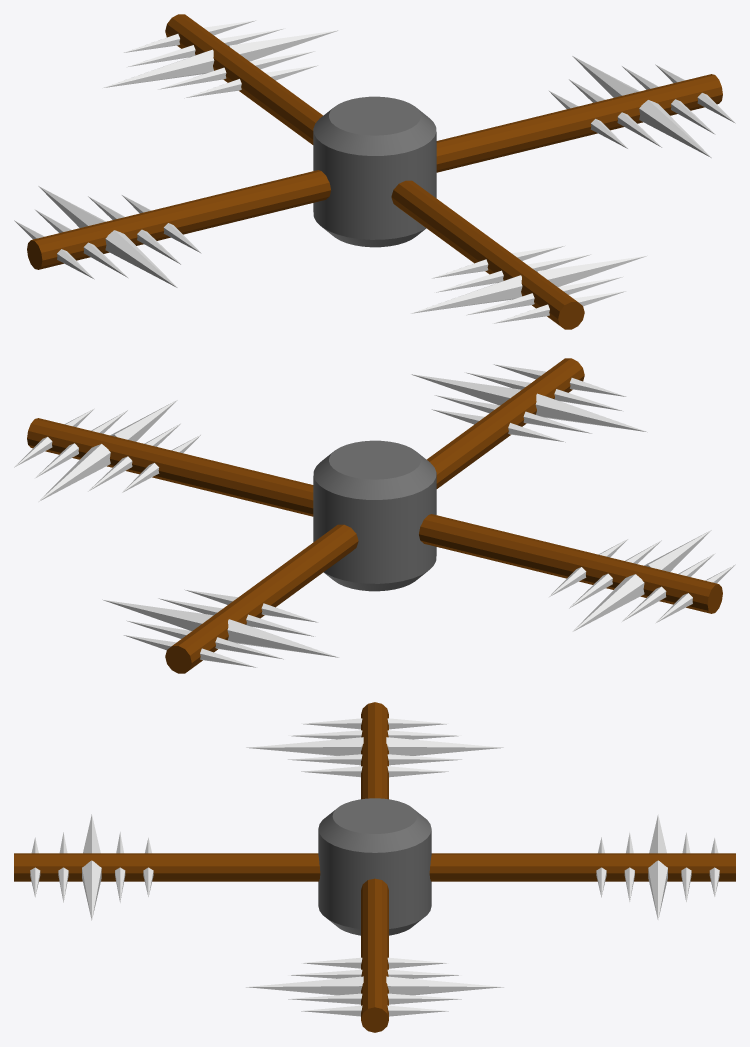
Rendered from Spinning Spike.glb.
The picture shows the model from 3 angles, top to bottom: view 1: azimuth 30°, elevation 25°; view 2: azimuth 150°, elevation 25°; view 3: azimuth 270°, elevation 25°; orthographic projection. The views are drawn at different scales.
Parts seen in each view (by area): view 1: Spinning Spikes; view 2: Spinning Spikes; view 3: Spinning Spikes.
Part boxes in pixels (bbox=[...]): Spinning Spikes: bbox=[14, 14, 735, 329]; Spinning Spikes: bbox=[14, 358, 735, 673]; Spinning Spikes: bbox=[14, 702, 735, 1032].
Bounding box in the file's own units: 5.1 × 0.8 × 5.1.
